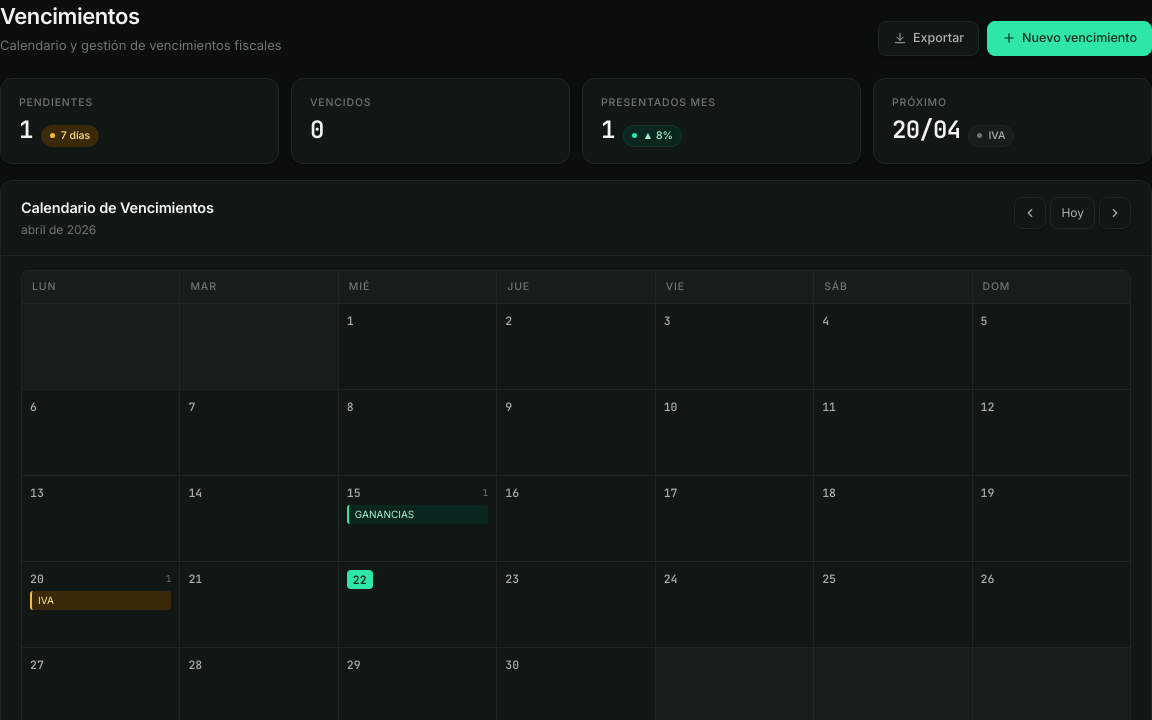
Test: VencimientosPage › nuevo vencimiento button opens modal
This screenshot has width=1152, height=720.
Click the button "Nuevo vencimiento". click: (1070, 38)
box: [987,21,1151,56]
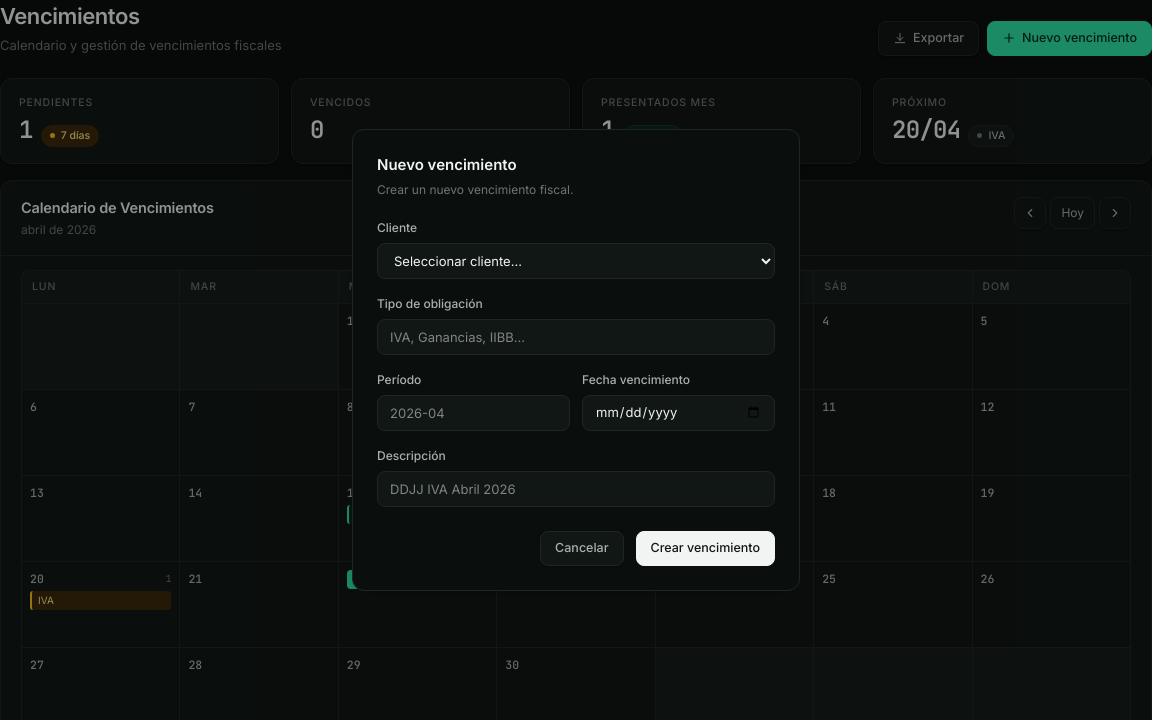
Result: the text "Crear un nuevo vencimiento fiscal." is shown at [377,182,573,197]
Result: the dropdown labelled "Cliente" is shown at [377,243,775,279]
Result: the field labelled "Tipo de obligación" is shown at [377,319,775,355]
